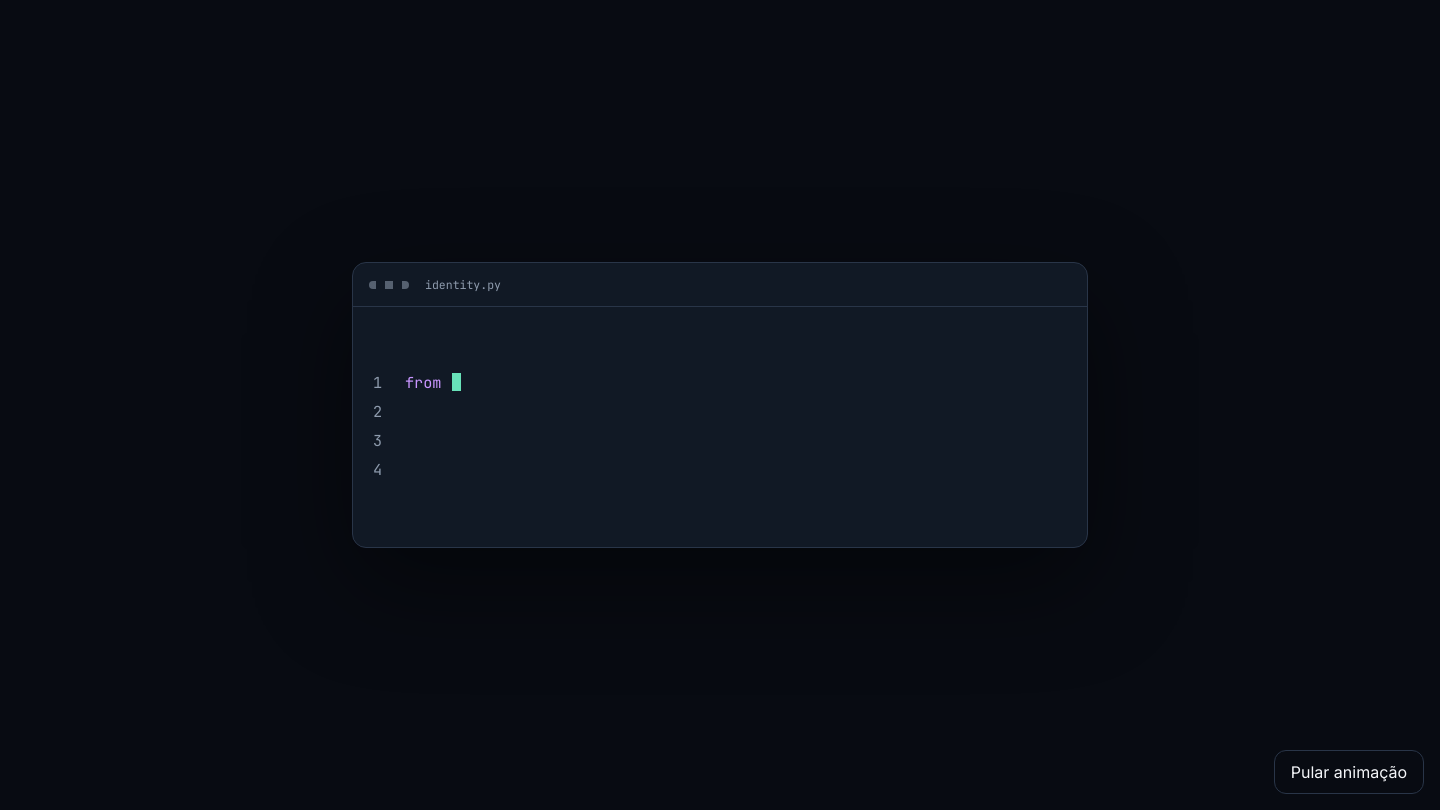
Test: identity introduction › plays once per session and can be skipped without moving focus
The image size is (1440, 810).
Click the button "Pular animação" at (1349, 772), box [1274, 750, 1424, 794]
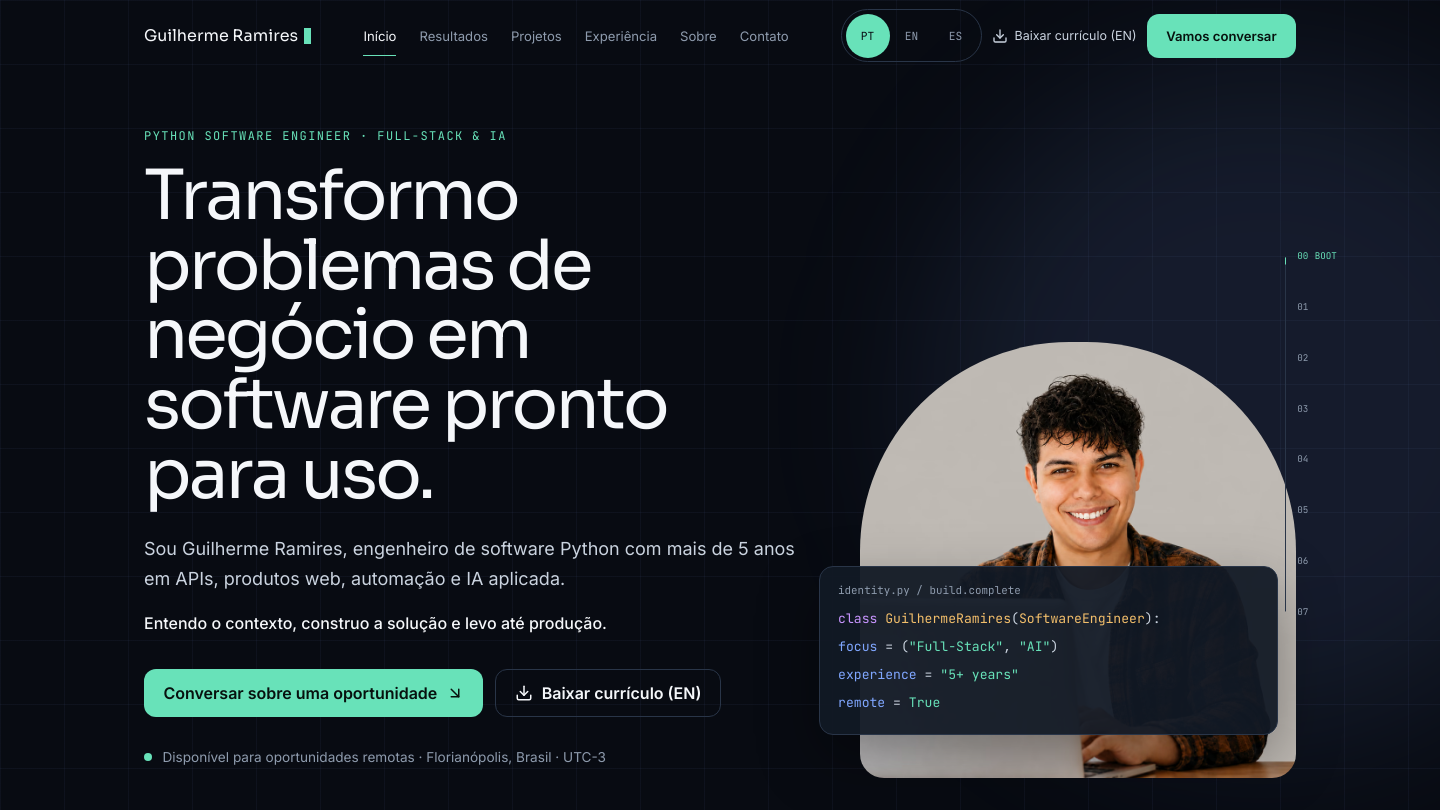
Check: the element with test id "identity-intro" is gone
